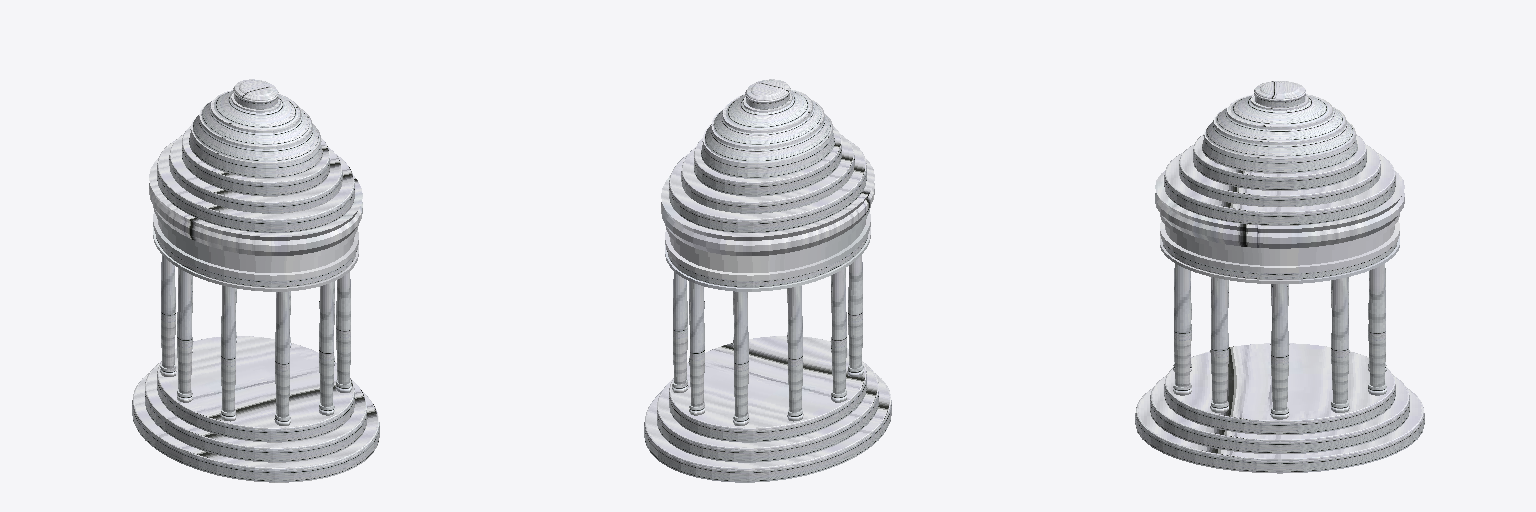
The picture shows the model from 3 angles: view 1: azimuth 30°, elevation 25°; view 2: azimuth 150°, elevation 25°; view 3: azimuth 270°, elevation 25°; orthographic projection.
Parts seen in each view (by area): view 1: Mesh; view 2: Mesh; view 3: Mesh.
Boxes of the visible parts, <box> form: Mesh: <box>132,79,379,482</box>; Mesh: <box>644,79,891,482</box>; Mesh: <box>1135,81,1424,473</box>.
Bounding box in the file's own units: 3.33 × 5.32 × 4.14.
Materials: 1 (1 with a texture image).